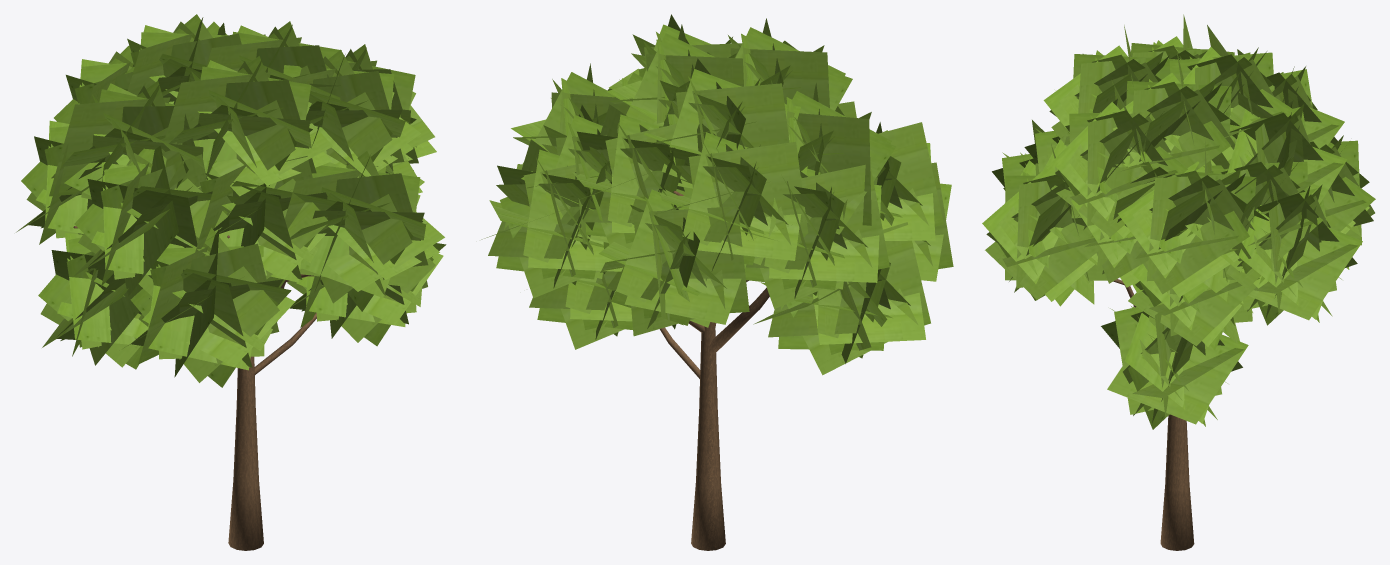
The model's file is treetextured.glb.
3 renders of one model, left to right at view 1: azimuth 30°, elevation 25°; view 2: azimuth 150°, elevation 25°; view 3: azimuth 270°, elevation 25°, orthographic. The views are drawn at different scales.
Parts seen in each view (by area): view 1: Plane.018, Plane.006, Plane.005, Plane.019, Plane.002, Plane.004, Plane.013, Plane.001, Plane.007, Cylinder, Plane.010, Plane.008 (+3 smaller); view 2: Plane.011, Plane.014, Plane.016, Plane.001, Plane.008, Plane.015, Plane.010, Plane.002, Cylinder, Plane.019, Plane.039, Plane.005 (+5 smaller); view 3: Plane.017, Plane.006, Plane.007, Plane.016, Plane.004, Plane.039, Plane.015, Plane.005, Plane.012, Plane.010, Plane.009, Plane.003 (+6 smaller).
Part boxes in pixels (x1,y1,x2,y2): Plane.018: (123, 227, 295, 387); Plane.006: (285, 151, 444, 311); Plane.005: (161, 56, 332, 196); Plane.019: (73, 145, 239, 296); Plane.002: (49, 81, 203, 199); Plane.004: (283, 49, 420, 177); Plane.013: (195, 156, 336, 287); Plane.001: (38, 233, 149, 369); Plane.007: (287, 243, 446, 346); Cylinder: (73, 226, 316, 550); Plane.010: (125, 14, 241, 104); Plane.008: (16, 120, 105, 244); Plane.011: (599, 187, 749, 336); Plane.014: (659, 123, 808, 271); Plane.016: (481, 139, 622, 298); Plane.001: (753, 222, 930, 375); Plane.008: (740, 164, 889, 308); Plane.015: (566, 104, 685, 249); Plane.010: (643, 58, 800, 188); Plane.002: (786, 83, 896, 234); Cylinder: (659, 191, 769, 550); Plane.019: (873, 122, 943, 249); Plane.039: (606, 24, 760, 126); Plane.005: (728, 18, 852, 110); Plane.017: (1117, 141, 1268, 302); Plane.006: (982, 144, 1107, 306); Plane.007: (1101, 306, 1248, 429); Plane.016: (1237, 184, 1362, 325); Plane.004: (1051, 80, 1187, 242); Plane.039: (1113, 52, 1239, 171); Plane.015: (1227, 92, 1347, 213); Plane.005: (1043, 25, 1177, 146); Plane.012: (1128, 263, 1264, 350); Plane.010: (1169, 25, 1294, 163); Plane.009: (1203, 134, 1323, 288); Plane.003: (1071, 161, 1213, 293).
Size of the model in its own units: 4.42 by 5.33 by 3.94.
Materials: 2 (2 with a texture image).
